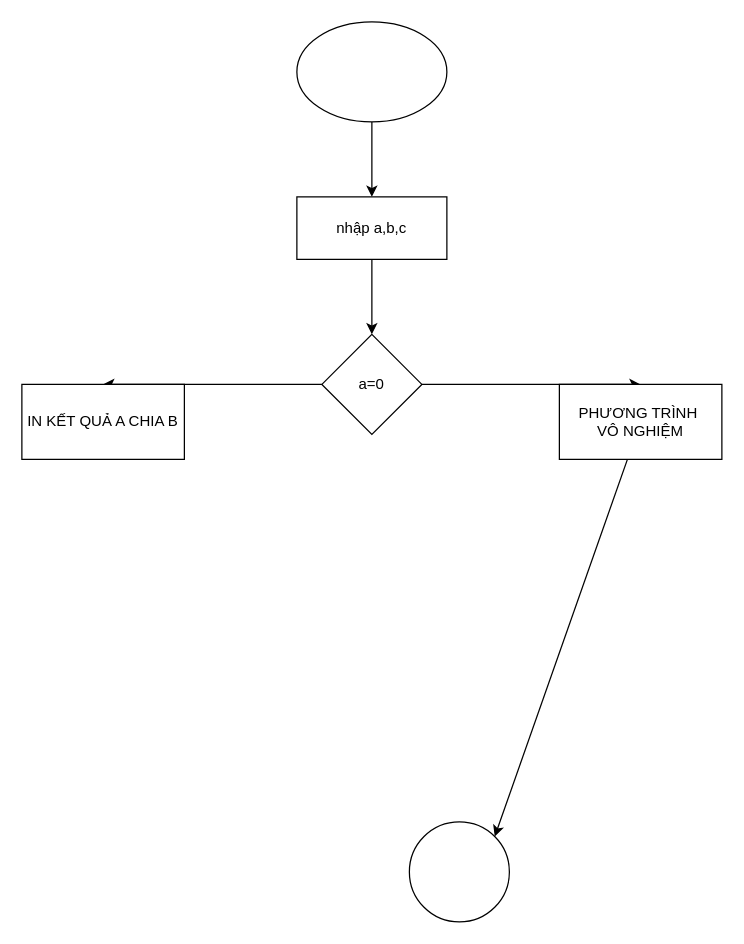
Image size: 744x944. Some labels were removed from this diagram. The shapes that lost their labels are listed below. From the top down, each one's box as (x1, y1, x2, y2) in pixels, then its label:
(296, 21, 447, 122): BẮT ĐẦU
(408, 821, 509, 922): KẾT THÚC
